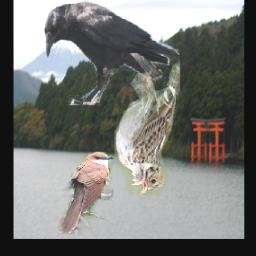Crow: (44, 1, 179, 106)
Cuckoo: (59, 153, 114, 235)
Sparrow: (115, 59, 181, 195)
